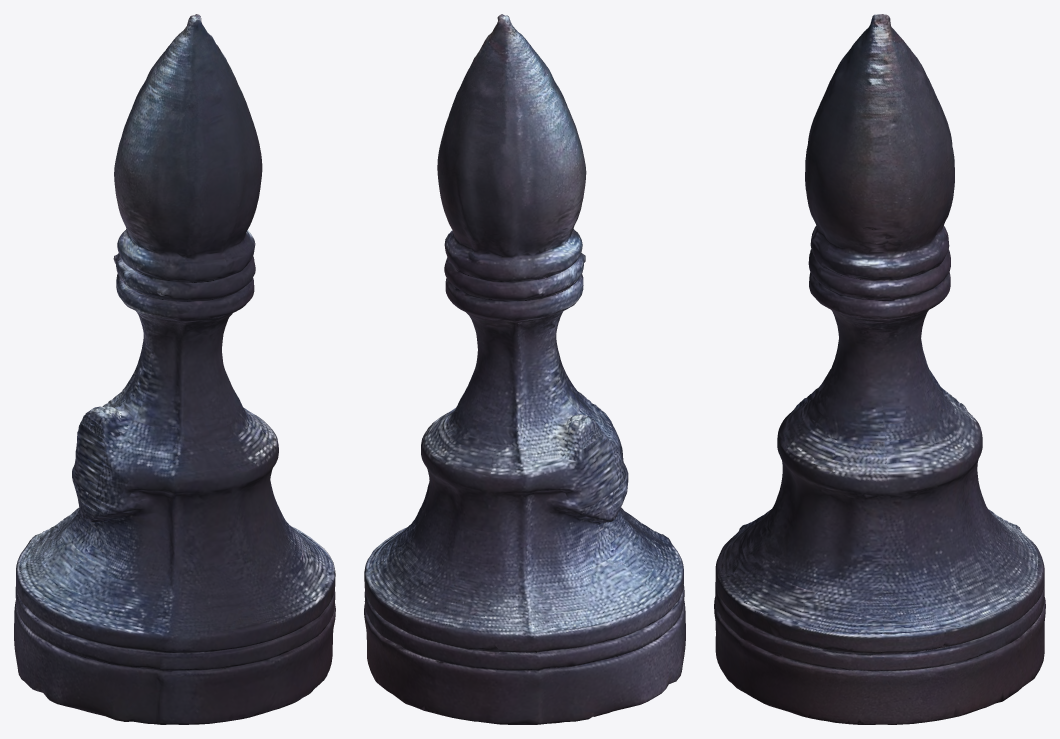
File: bishop.glb
3 renders of one model, left to right at view 1: azimuth 30°, elevation 25°; view 2: azimuth 150°, elevation 25°; view 3: azimuth 270°, elevation 25°, orthographic. The views are drawn at different scales.
Visible parts, largest first — view 1: tripo_node_2bf1a216-313a-418c-bc35-612c14e1fc4f; view 2: tripo_node_2bf1a216-313a-418c-bc35-612c14e1fc4f; view 3: tripo_node_2bf1a216-313a-418c-bc35-612c14e1fc4f.
Boxes of the visible parts, x1,y1,x2,y2 form: tripo_node_2bf1a216-313a-418c-bc35-612c14e1fc4f: (14,14,335,724); tripo_node_2bf1a216-313a-418c-bc35-612c14e1fc4f: (364,14,685,724); tripo_node_2bf1a216-313a-418c-bc35-612c14e1fc4f: (714,14,1045,724).
Size of the model in its own units: 0.4472 by 0.9788 by 0.449.
Materials: 1 (1 with a texture image).
